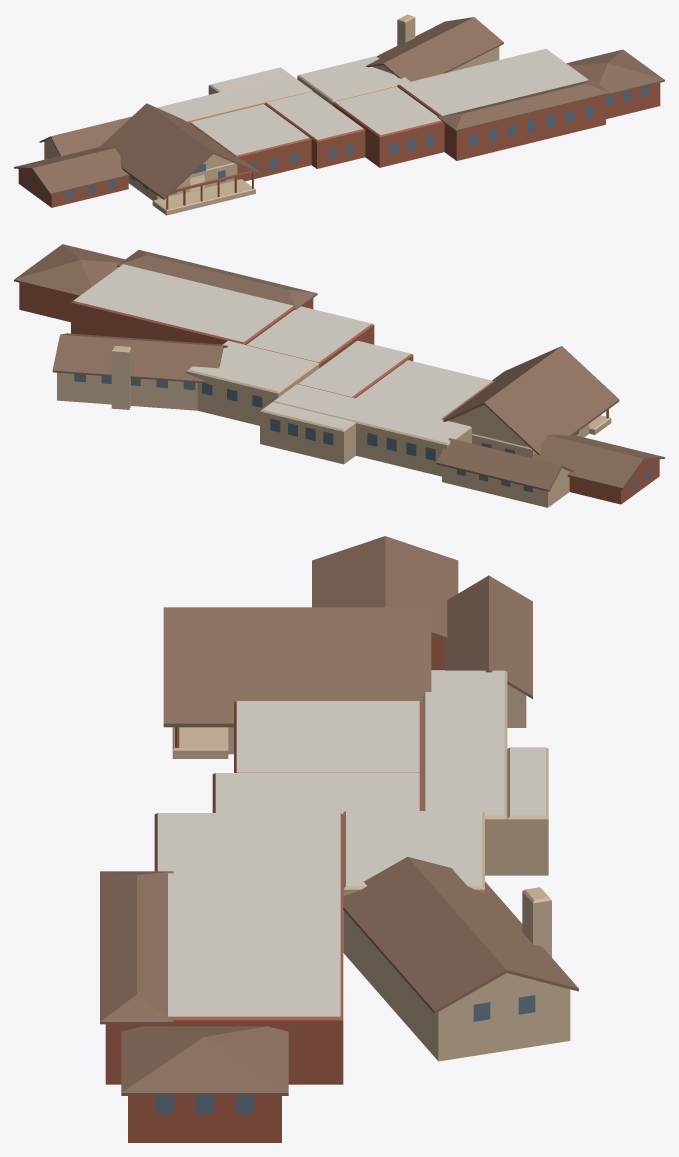
Rendered from grand-canyon-bright-angel-lodge.glb.
3 renders of one model, top to bottom at view 1: azimuth 30°, elevation 25°; view 2: azimuth 150°, elevation 25°; view 3: azimuth 270°, elevation 25°, orthographic. The views are drawn at different scales.
Visible parts, largest first — view 1: Bright Angel Lodge; view 2: Bright Angel Lodge; view 3: Bright Angel Lodge.
Boxes of the visible parts, x1,y1,x2,y2 form: Bright Angel Lodge: (14, 14, 664, 215); Bright Angel Lodge: (14, 244, 664, 507); Bright Angel Lodge: (100, 536, 578, 1142).
Size of the model in its own units: 117 by 10.7 by 42.91.
